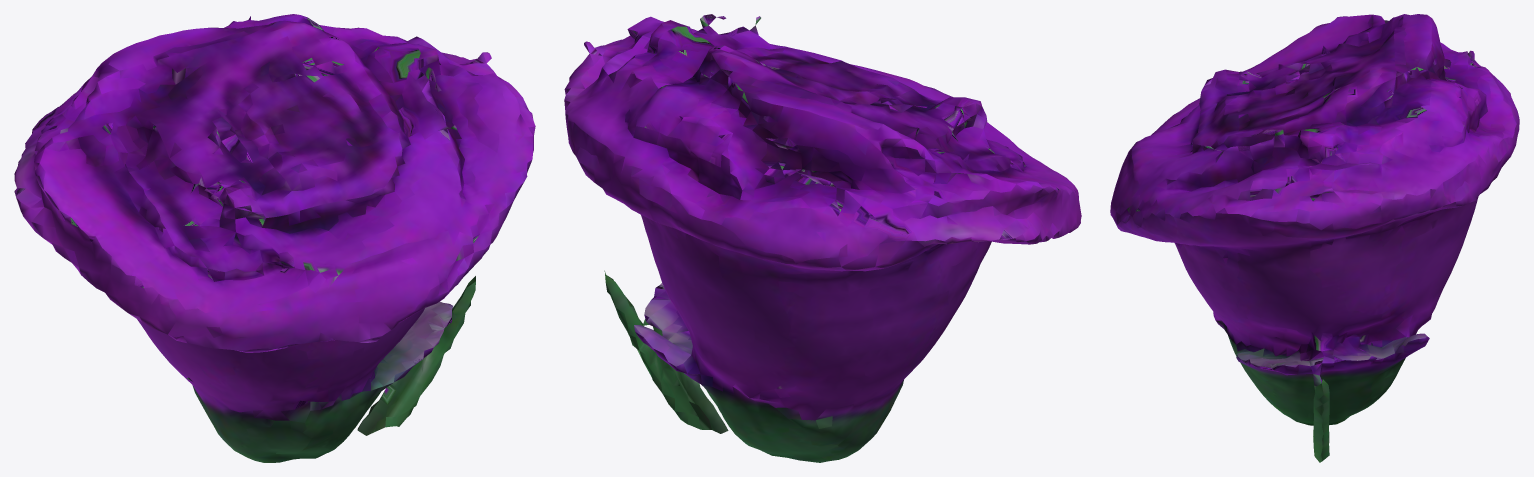
3 renders of one model, left to right at view 1: azimuth 30°, elevation 25°; view 2: azimuth 150°, elevation 25°; view 3: azimuth 270°, elevation 25°, orthographic. The views are drawn at different scales.
Parts seen in each view (by area): view 1: 38953f49; view 2: 38953f49; view 3: 38953f49.
Part boxes in pixels (x1,y1,x2,y2): 38953f49: [14, 14, 535, 462]; 38953f49: [564, 14, 1081, 462]; 38953f49: [1110, 14, 1519, 462].
Size of the model in its own units: 0.0804 by 0.0664 by 0.0687.
Materials: 1 (1 with a texture image).
